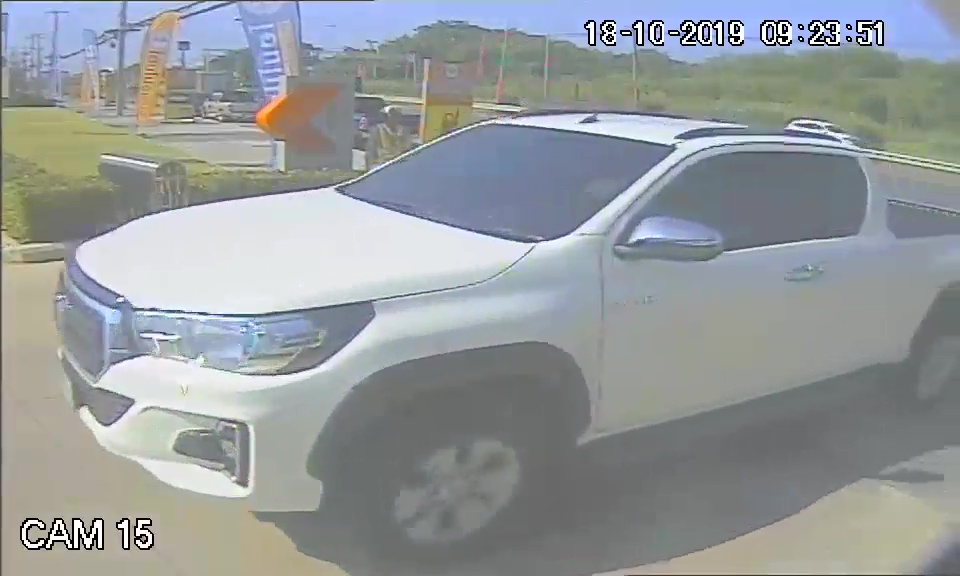pickup: (48, 104, 960, 515)
